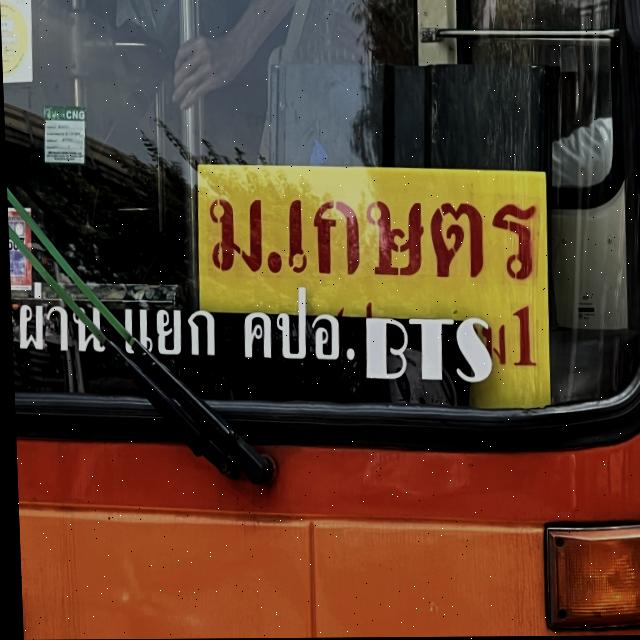BMTA-bus: (0, 0, 640, 640)
Destination Sign: (191, 159, 552, 407)
